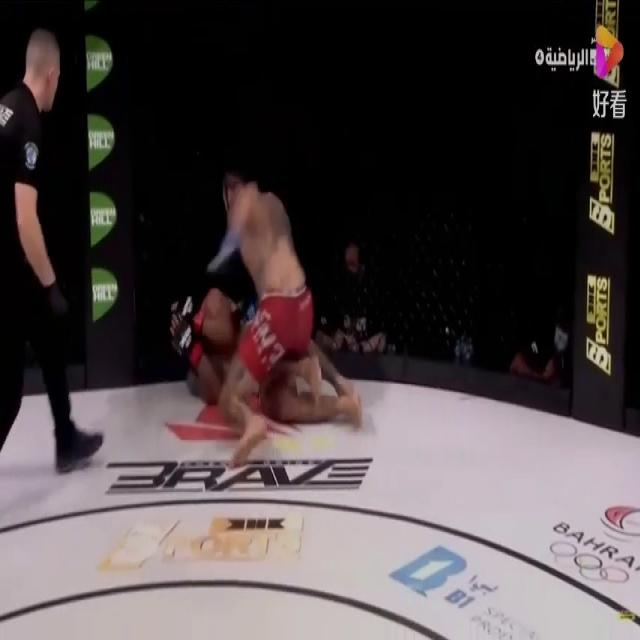fight: (166, 151, 363, 493)
non-fight: (0, 12, 98, 476)
